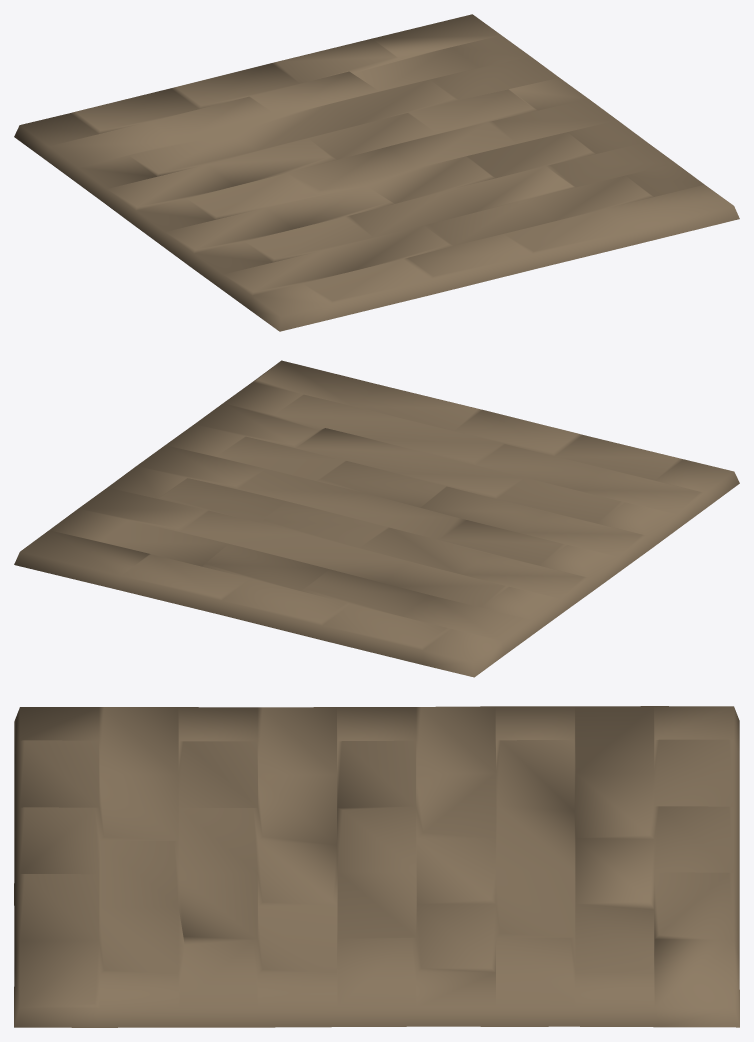
Rendered from ground.gltf.
The picture shows the model from 3 angles, top to bottom: view 1: azimuth 30°, elevation 25°; view 2: azimuth 150°, elevation 25°; view 3: azimuth 270°, elevation 25°; orthographic projection. The views are drawn at different scales.
Parts seen in each view (by area): view 1: Ground_A; view 2: Ground_A; view 3: Ground_A.
Part boxes in pixels (x1,y1,x2,y2): Ground_A: (14, 14, 739, 331); Ground_A: (14, 360, 739, 677); Ground_A: (14, 706, 739, 1027).
Size of the model in its own units: 4.07 by 0.1493 by 4.07.
